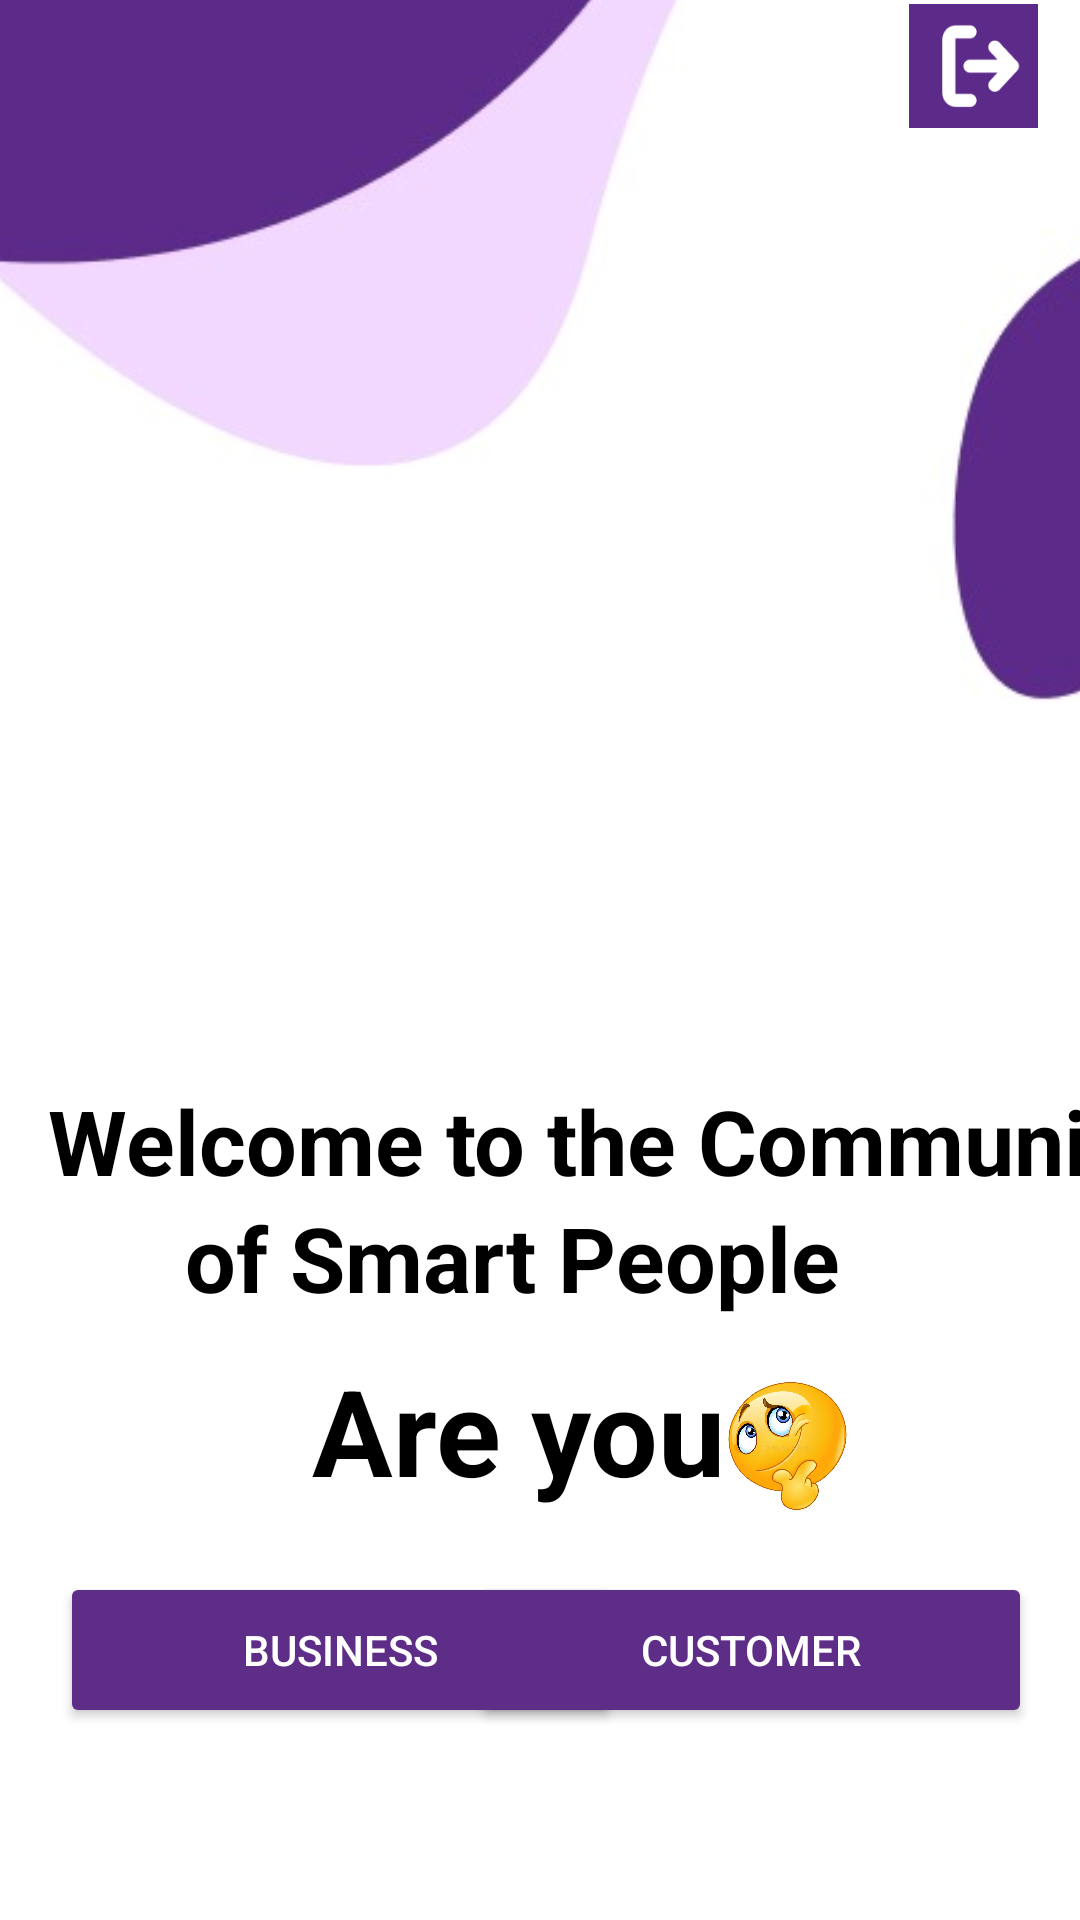

Screen size 1080x1920. Icon name, then its box in pixels as (x1, y1, x2, y2):
exit: (909, 4, 1038, 128)
think: (728, 1382, 847, 1510)
